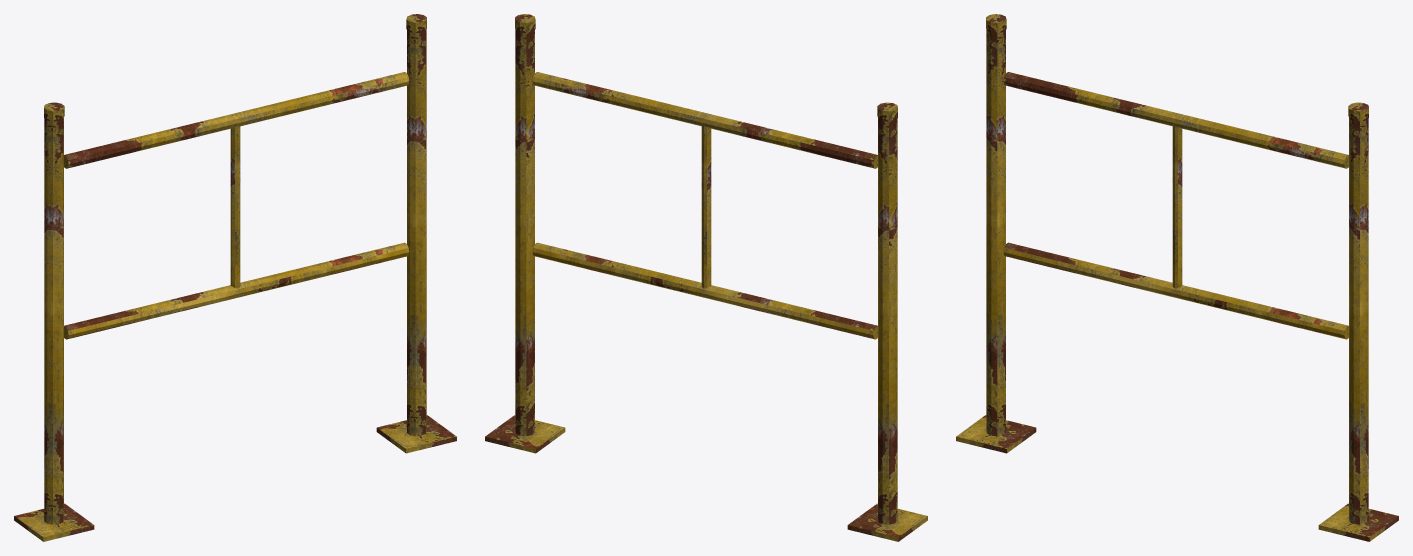
The model's file is korkuluk_kapi_1m.gltf.
3 renders of one model, left to right at view 1: azimuth 30°, elevation 25°; view 2: azimuth 150°, elevation 25°; view 3: azimuth 330°, elevation 25°, orthographic.
Parts seen in each view (by area): view 1: korkuluk_kapi_1m; view 2: korkuluk_kapi_1m; view 3: korkuluk_kapi_1m.
Part boxes in pixels (bbox=[...]): korkuluk_kapi_1m: bbox=[14, 14, 456, 541]; korkuluk_kapi_1m: bbox=[485, 14, 927, 541]; korkuluk_kapi_1m: bbox=[956, 14, 1398, 541].
Size of what is drawn, in the model's own units: 1.14 by 1.1 by 0.14.
Materials: 1 (1 with a texture image).
